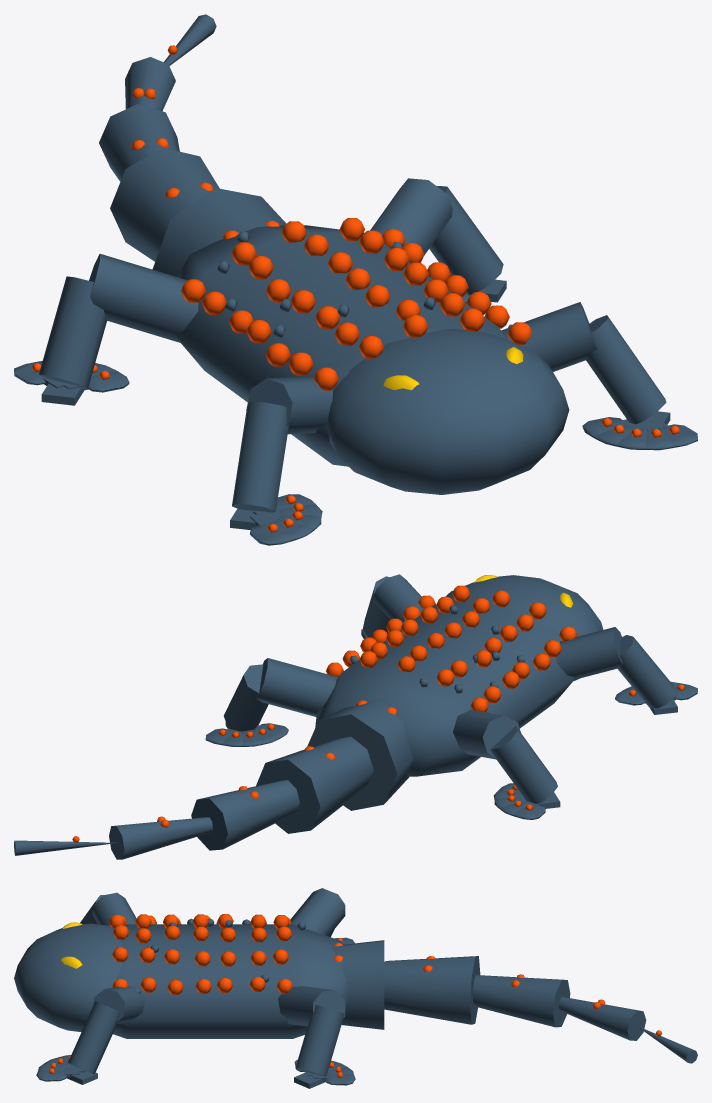
The model's file is tokay-gecko.glb.
3 views of the same model, one above another, from view 1: azimuth 30°, elevation 25°; view 2: azimuth 150°, elevation 25°; view 3: azimuth 270°, elevation 25° (orthographic). The views are drawn at different scales.
Parts seen in each view (by area): view 1: Mesh_Head, Mesh_Body, Mesh_TailSeg2, Mesh_RL_Upper, Mesh_TailSeg1, Mesh_RL_Lower, Mesh_FL_Lower, Mesh_FR_Lower, Mesh_RR_Lower, Mesh_RR_Upper, Mesh_TailSeg3, Mesh_FR_Upper (+3 smaller); view 2: Mesh_Body, Mesh_TailSeg2, Mesh_TailSeg1, Mesh_TailSeg3, Mesh_Head, Mesh_RR_Upper, Mesh_TailSeg4, Mesh_RL_Lower, Mesh_FL_Upper, Mesh_FL_Lower, Mesh_RL_Upper, Mesh_RR_Lower (+3 smaller); view 3: Mesh_Body, Mesh_Head, Mesh_TailSeg2, Mesh_TailSeg3, Mesh_TailSeg1, Mesh_RR_Lower, Mesh_TailSeg4, Mesh_FR_Lower, Mesh_RR_Upper, Mesh_RL_Upper, Mesh_FR_Upper, Mesh_FL_Upper (+1 smaller).
Boxes of the visible parts, box(x1,y1,x2,y2) form: Mesh_Head: box(325, 329, 569, 494); Mesh_Body: box(175, 225, 506, 466); Mesh_TailSeg2: box(110, 148, 219, 261); Mesh_RL_Upper: box(89, 253, 198, 343); Mesh_TailSeg1: box(152, 188, 286, 276); Mesh_RL_Lower: box(39, 276, 106, 388); Mesh_FL_Lower: box(232, 402, 288, 512); Mesh_FR_Lower: box(585, 315, 666, 424); Mesh_RR_Lower: box(429, 186, 503, 294); Mesh_RR_Upper: box(370, 178, 452, 255); Mesh_TailSeg3: box(99, 104, 179, 181); Mesh_FR_Upper: box(501, 302, 596, 371); Mesh_Body: box(315, 603, 574, 776); Mesh_TailSeg2: box(256, 736, 373, 833); Mesh_TailSeg1: box(307, 699, 413, 810); Mesh_TailSeg3: box(191, 780, 299, 850); Mesh_Head: box(446, 575, 603, 681); Mesh_RR_Upper: box(256, 658, 337, 716); Mesh_TailSeg4: box(109, 817, 212, 859); Mesh_RL_Lower: box(490, 726, 557, 803); Mesh_FL_Upper: box(556, 627, 623, 679); Mesh_FL_Lower: box(617, 635, 675, 708); Mesh_RL_Upper: box(453, 709, 520, 759); Mesh_RR_Lower: box(223, 664, 268, 731); Mesh_Body: box(113, 924, 348, 1038); Mesh_Head: box(14, 923, 122, 1031); Mesh_TailSeg2: box(384, 956, 480, 1024); Mesh_TailSeg3: box(473, 975, 570, 1027); Mesh_TailSeg1: box(331, 940, 384, 1029); Mesh_RR_Lower: box(295, 1005, 344, 1076); Mesh_TailSeg4: box(559, 997, 646, 1040); Mesh_FR_Lower: box(68, 1001, 120, 1074); Mesh_RR_Upper: box(278, 986, 345, 1026); Mesh_RL_Upper: box(290, 888, 345, 936); Mesh_FR_Upper: box(93, 986, 145, 1023); Mesh_FL_Upper: box(92, 892, 136, 925).
Bounding box in the file's own units: 0.1893 × 0.0611 × 0.3723.
